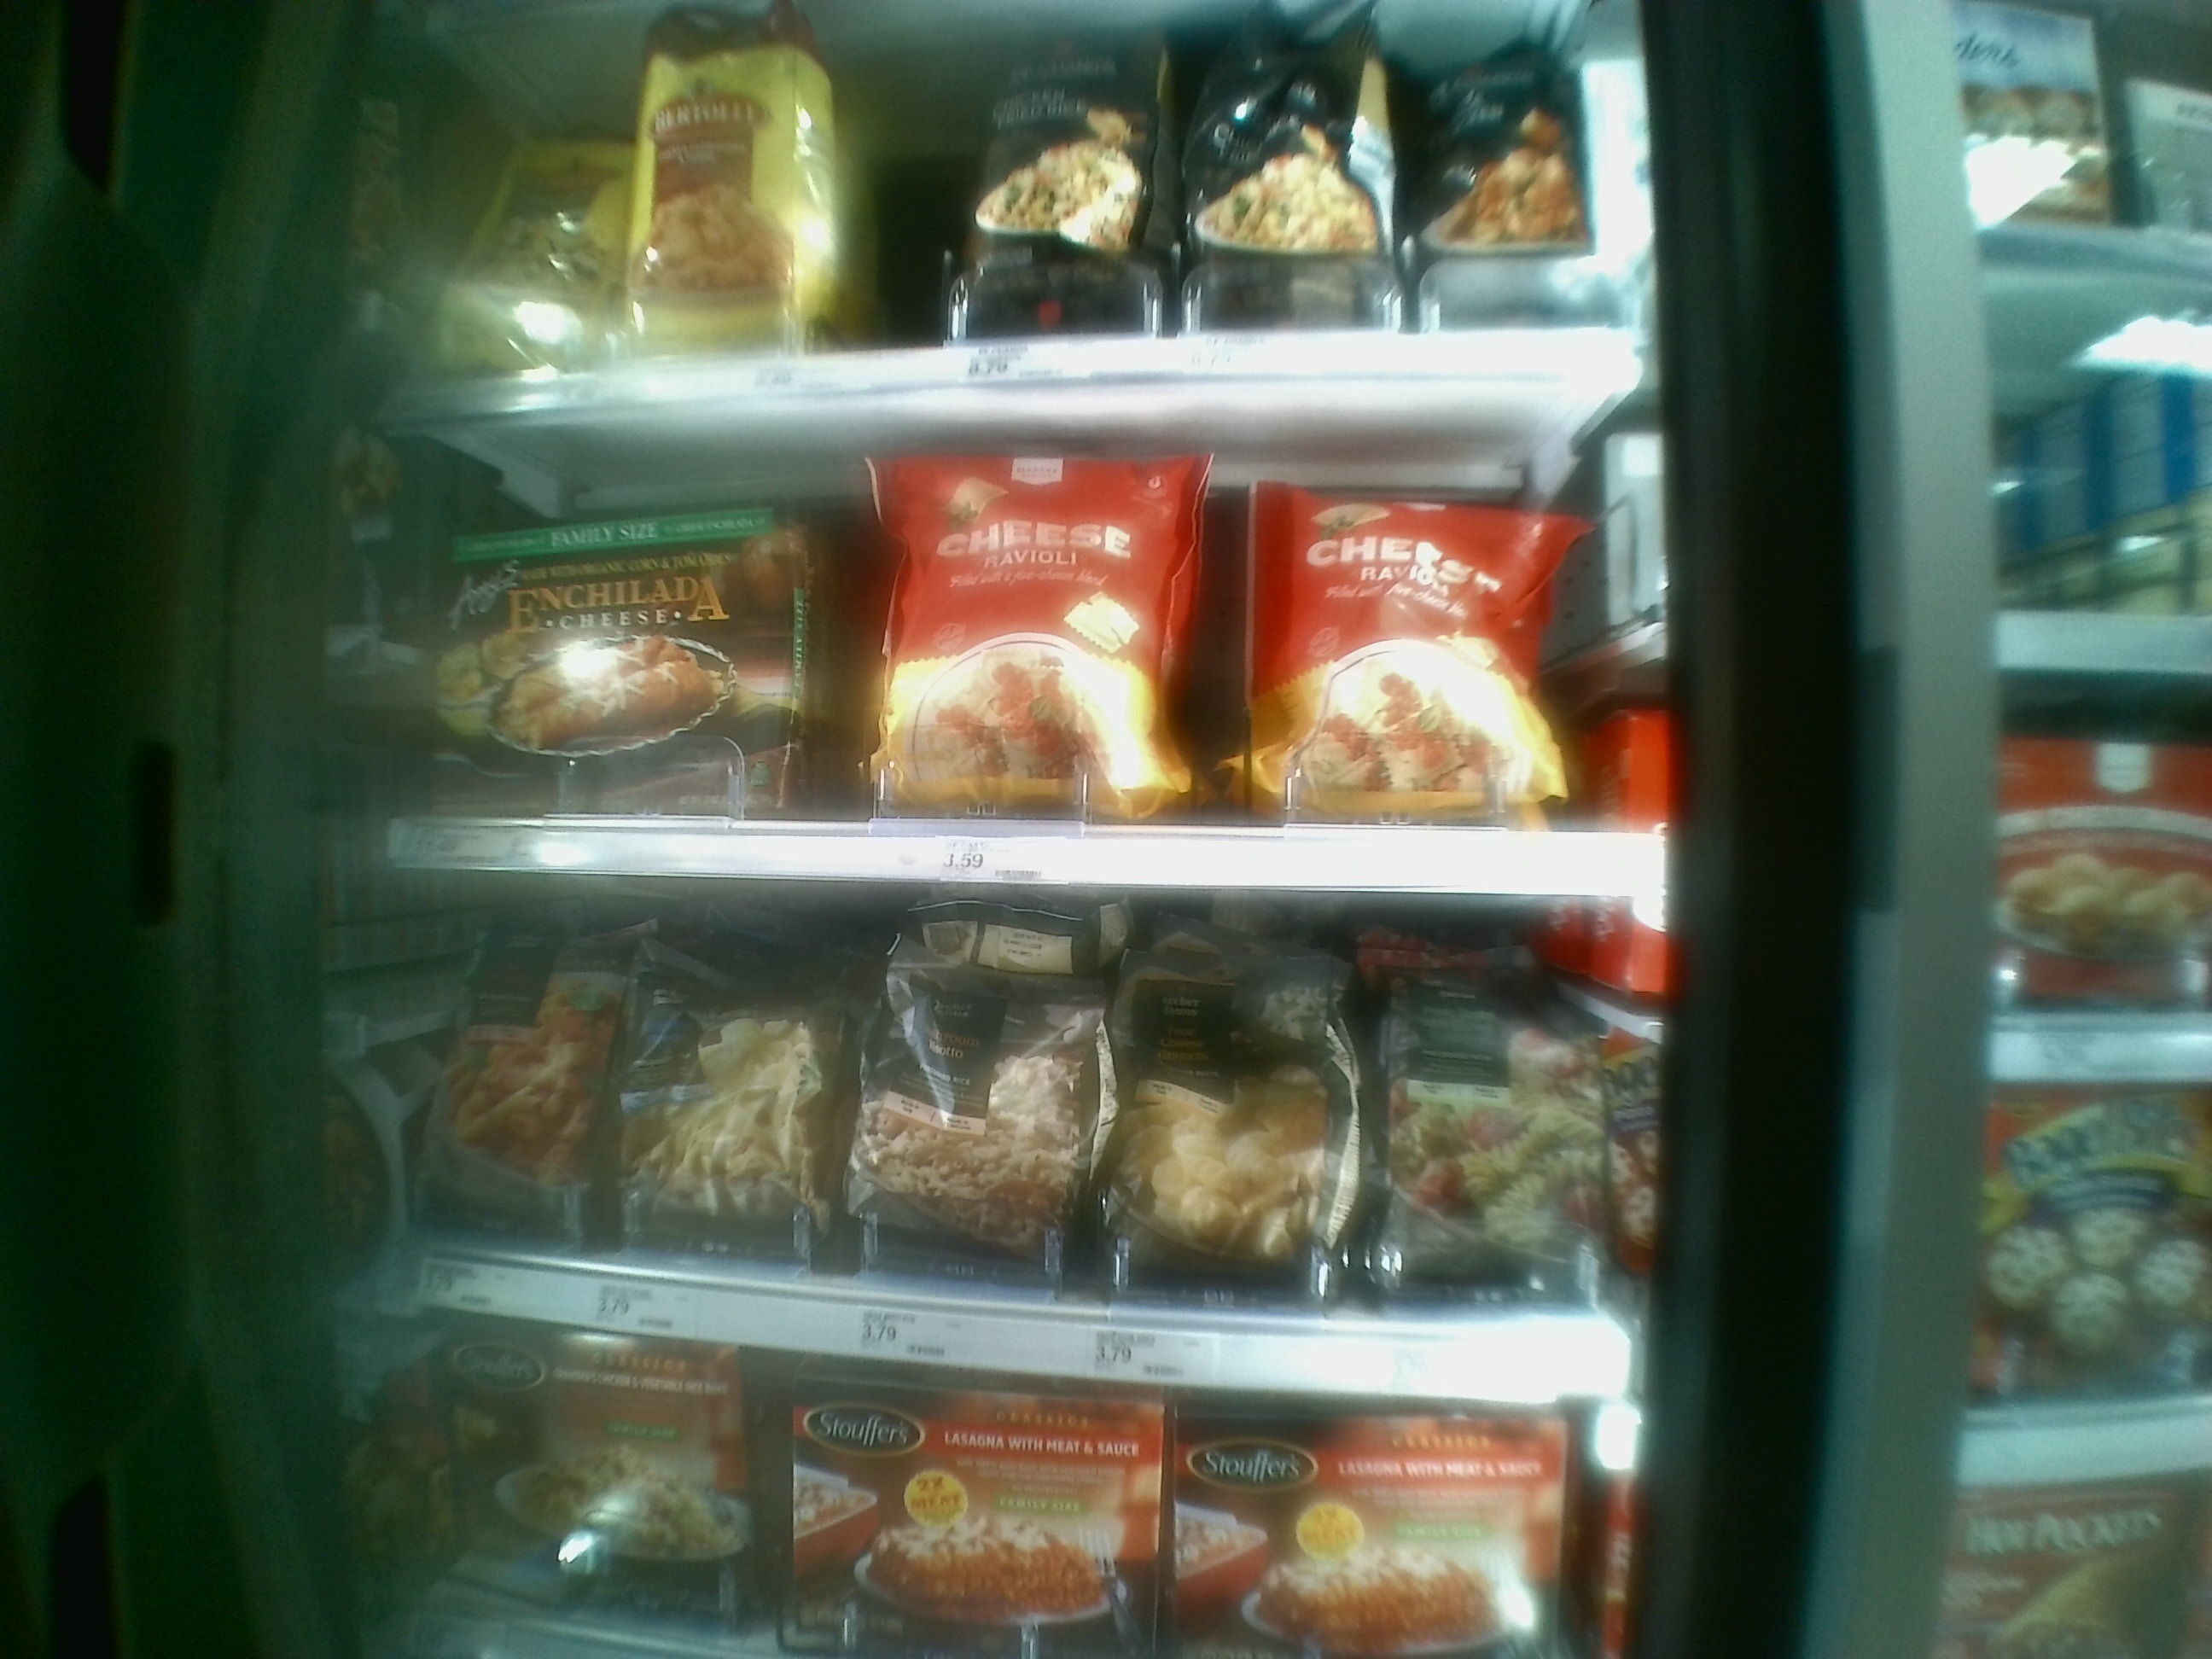shelf: (374, 878, 1646, 1364), (383, 434, 1660, 887)
